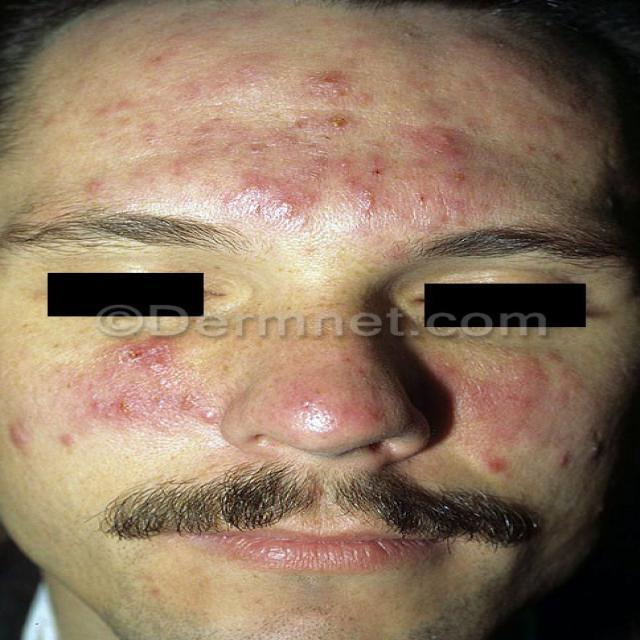skinredness: (66, 46, 635, 552)
